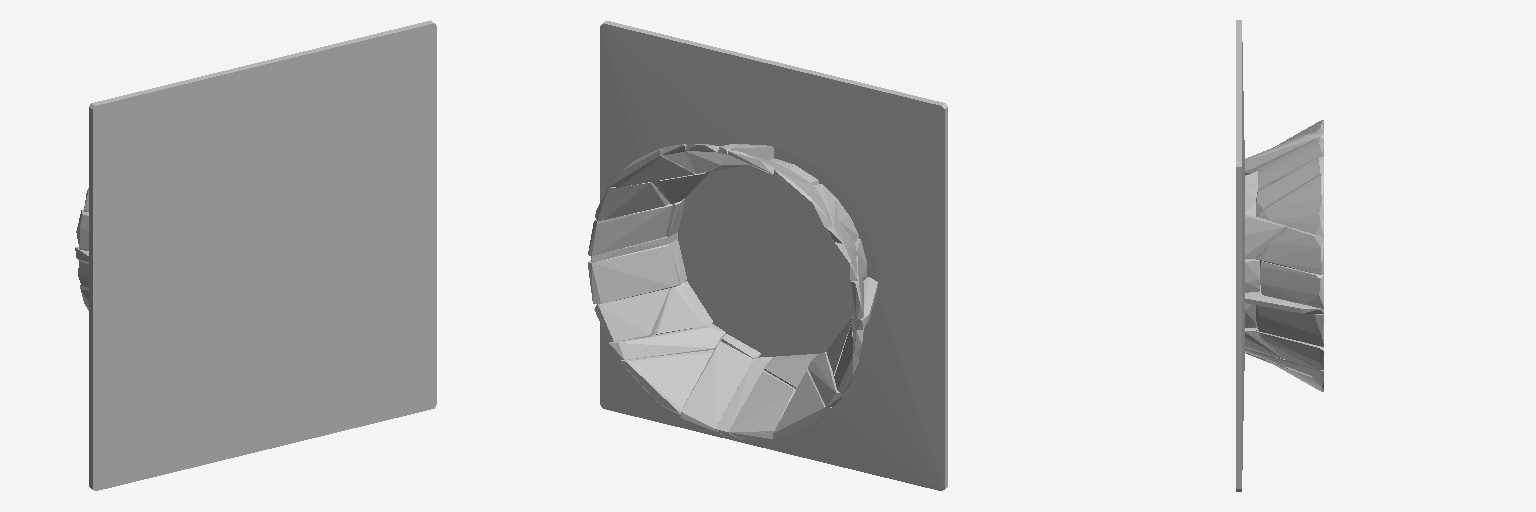
URDF robot description (stage):
<?xml version="1.0" encoding="utf-8"?>
<!-- =================================================================================== -->
<!-- |    This document was autogenerated by xacro from [local-path]/ws/fingers/workspace/src/catkin/robots/robot_properties/robot_properties_fingers/xacro/stage.urdf.xacro | -->
<!-- |    EDITING THIS FILE BY HAND IS NOT RECOMMENDED                                 | -->
<!-- =================================================================================== -->
<robot name="stage">
  <material name="stage_material">
    <color rgba="0.8 0.8 0.8 1.0"/>
  </material>
  <!-- add the "stage" -->
  <link name="stage_link">
    <visual>
      <origin rpy="0 0 0" xyz="0 0 0"/>
      <geometry>
        <mesh filename="package://robot_properties_fingers/meshes/stl/trifinger_stage_vhacd2.obj" scale="1 1 1"/>
      </geometry>
      <material name="stage_material"/>
    </visual>
    <collision>
      <origin rpy="0 0 0" xyz="0 0 0"/>
      <geometry>
        <mesh filename="package://robot_properties_fingers/meshes/stl/trifinger_stage_vhacd2.obj" scale="1 1 1"/>
      </geometry>
    </collision>
    <inertial>
      <origin rpy="0 0 0" xyz="0 0 0"/>
      <mass value="1"/>
      <inertia ixx="0.00770833333333" ixy="0" ixz="0" iyy="0.00770833333333" iyz="0" izz="0.015"/>
    </inertial>
  </link>
</robot>

--- Facts derived from the render (not from the file) ---
3 views of the same robot in one strip: view 1: azimuth 30°, elevation 25°; view 2: azimuth 150°, elevation 25°; view 3: azimuth 270°, elevation 25° (orthographic).
Robot: stage — 1 links, 0 joints (none); root link stage_link; default pose: every joint at zero.
Visible links, largest first — view 1: stage_link; view 2: stage_link; view 3: stage_link.
Boxes of the visible links, left/top/right/bottom form: stage_link: left=75, top=20, right=436, bottom=490; stage_link: left=588, top=21, right=947, bottom=490; stage_link: left=1236, top=20, right=1323, bottom=491.
Bounding box of the posed robot: 0.7134 × 0.1866 × 0.7627 m (x, y, z).
1 mesh visuals loaded from 1 distinct referenced files (1 OBJ).
